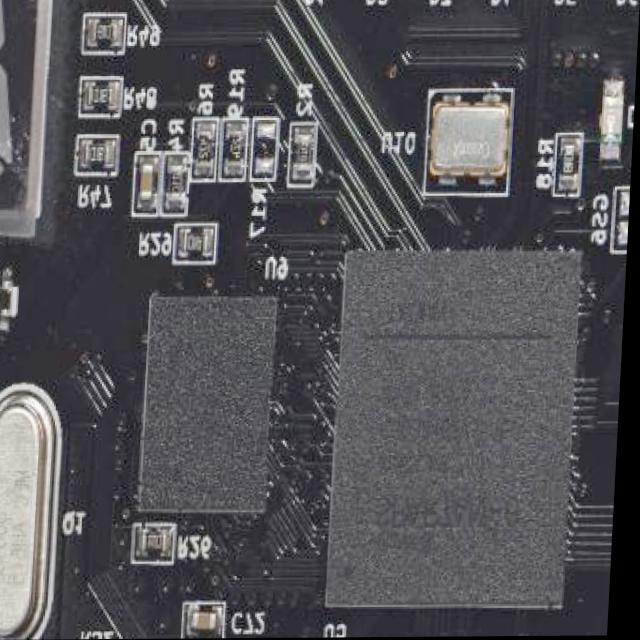IC: (331, 250, 586, 608), (142, 297, 283, 510), (430, 102, 512, 179)
capacitor: (140, 162, 157, 203), (197, 610, 225, 632)
diode: (600, 96, 625, 148)
resistor: (560, 143, 578, 184), (169, 164, 187, 205), (199, 128, 216, 170), (229, 128, 246, 170), (146, 530, 174, 555), (296, 133, 313, 174), (91, 20, 119, 44), (184, 231, 212, 255), (84, 142, 112, 166), (0, 280, 17, 319), (87, 84, 115, 107)
transistor: (0, 396, 57, 640)
